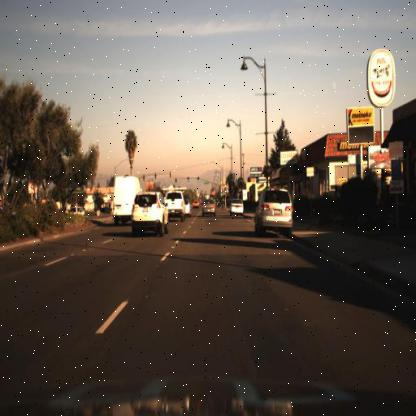car: (253, 184, 295, 238), (128, 188, 168, 237), (113, 174, 142, 226), (163, 187, 186, 222), (199, 196, 218, 218), (228, 196, 246, 218), (182, 192, 193, 218)
truck: (110, 171, 143, 227)
